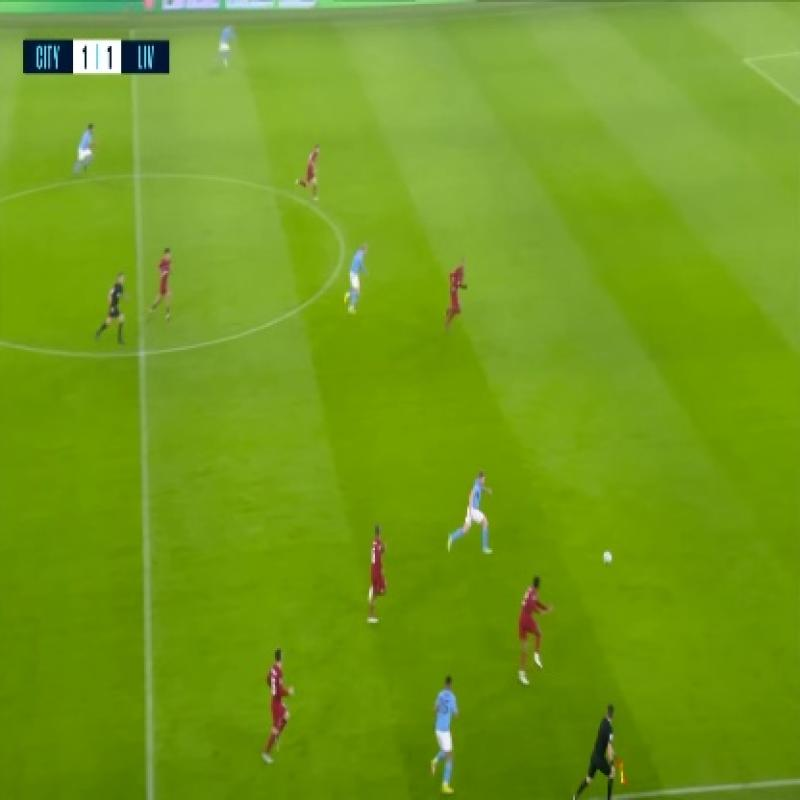13: (116, 22, 148, 40)
14: (117, 154, 154, 194)
15: (123, 330, 156, 374)
9: (732, 44, 756, 73)
c: (330, 231, 364, 270)
